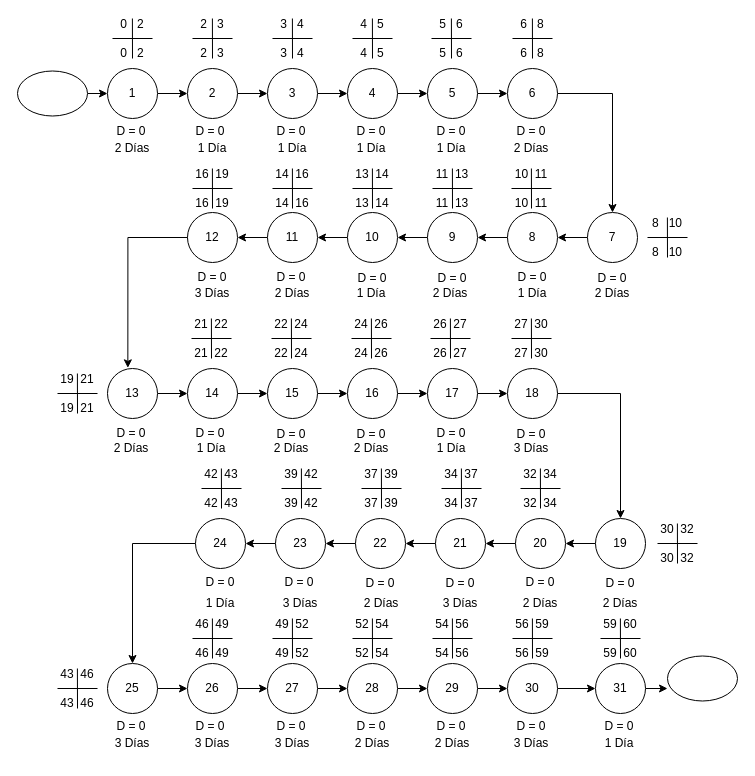
The diagram is 755 pixels wide and 776 high, and some of its shapes have lost their labels. Each missing label, with the box of its shape:
FIN: (666, 655, 738, 701)
INICIO: (16, 70, 88, 116)
